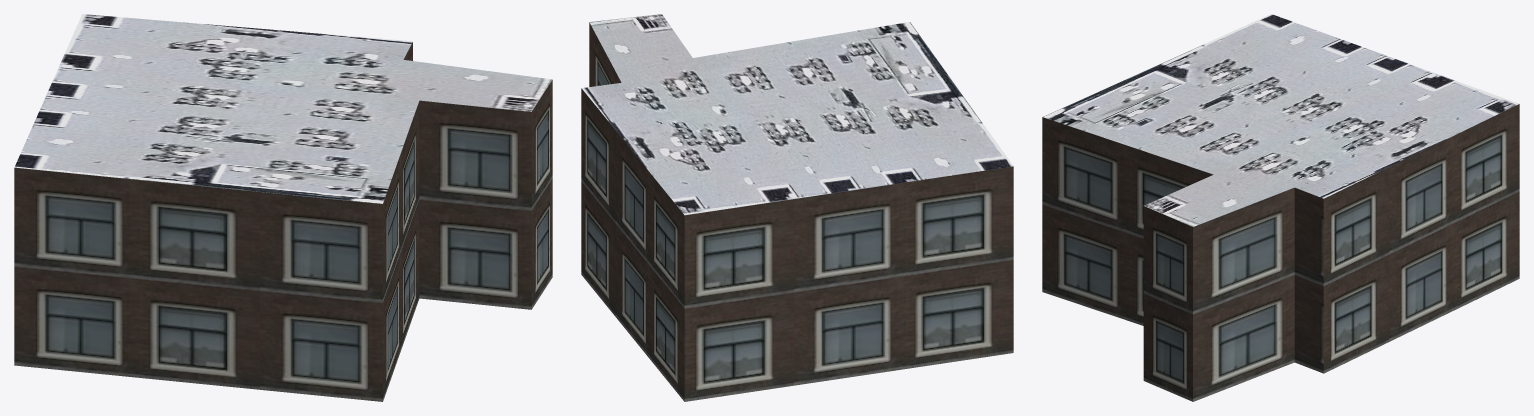
The model's file is ResTex__1519.fbx.
3 views of the same model, side by side, from view 1: azimuth 30°, elevation 25°; view 2: azimuth 150°, elevation 25°; view 3: azimuth 270°, elevation 25° (orthographic). The views are drawn at different scales.
Visible parts, largest first — view 1: CityEngineMaterial_16_m, CityEngineMaterial_15_m; view 2: CityEngineMaterial_16_m, CityEngineMaterial_15_m; view 3: CityEngineMaterial_16_m, CityEngineMaterial_15_m.
Boxes of the visible parts, bbox=[...] form: CityEngineMaterial_16_m: bbox=[14, 42, 552, 401]; CityEngineMaterial_15_m: bbox=[14, 14, 552, 203]; CityEngineMaterial_16_m: bbox=[581, 22, 1013, 401]; CityEngineMaterial_15_m: bbox=[581, 14, 1012, 215]; CityEngineMaterial_16_m: bbox=[1042, 104, 1519, 401]; CityEngineMaterial_15_m: bbox=[1043, 14, 1519, 226].
Size of the model in its own units: 15.67 by 6 by 14.83.
2 materials, 2 textured.
